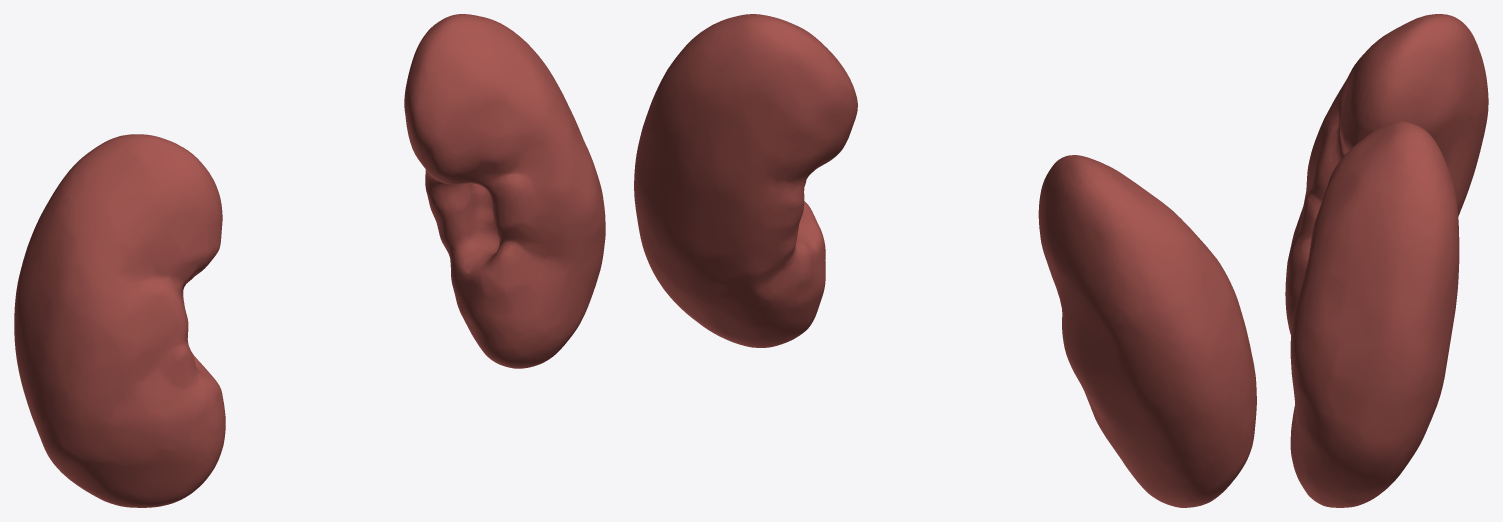
File: explorar-kidneys.glb
3 views of the same model, side by side, from view 1: azimuth 30°, elevation 25°; view 2: azimuth 150°, elevation 25°; view 3: azimuth 270°, elevation 25° (orthographic). The views are drawn at different scales.
Visible parts, largest first — view 1: kidneys__derecho, kidneys__izquierdo; view 2: kidneys__izquierdo, kidneys__derecho; view 3: kidneys__izquierdo, kidneys__derecho.
Boxes of the visible parts, left/top/right/bottom form: kidneys__derecho: left=14, top=134, right=225, bottom=507; kidneys__izquierdo: left=404, top=14, right=605, bottom=368; kidneys__izquierdo: left=634, top=14, right=857, bottom=347; kidneys__derecho: left=1038, top=155, right=1256, bottom=507; kidneys__izquierdo: left=1290, top=121, right=1459, bottom=507; kidneys__derecho: left=1285, top=14, right=1488, bottom=334.
Size of the model in its own units: 0.1806 by 0.118 by 0.0531.
